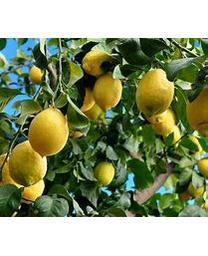lemon: (28, 108, 68, 158), (135, 69, 173, 117), (9, 140, 47, 187), (93, 71, 122, 112), (151, 104, 176, 136), (95, 159, 114, 187)
